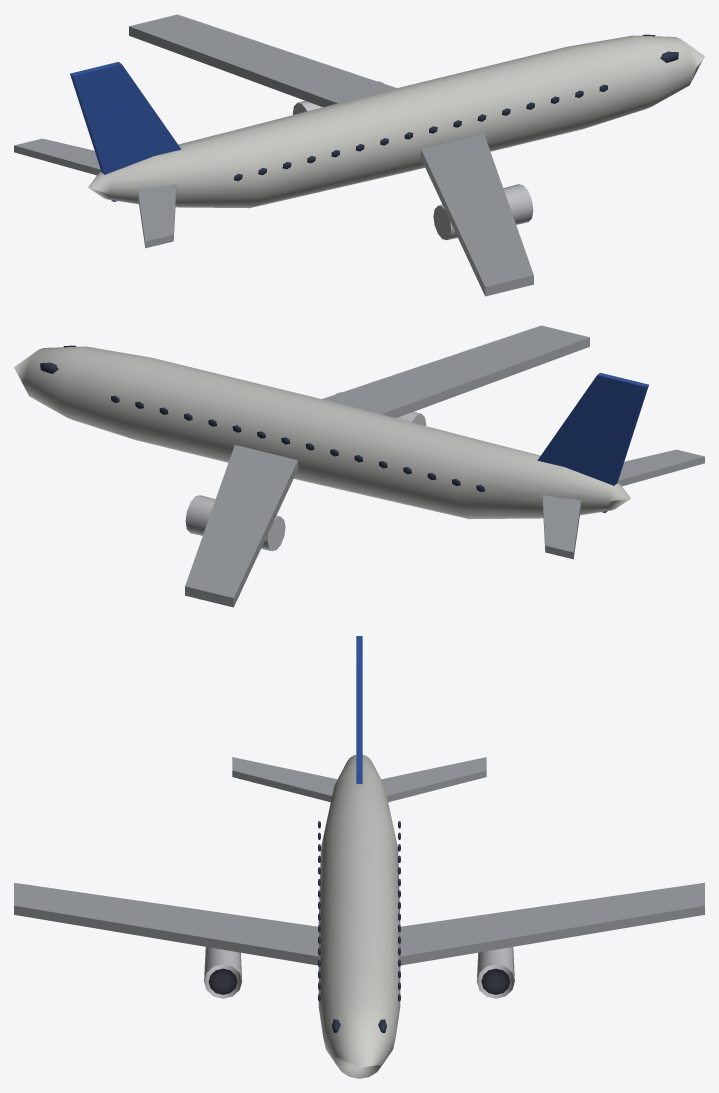
The model's file is sky_jet.glb.
3 views of the same model, one above another, from view 1: azimuth 30°, elevation 25°; view 2: azimuth 150°, elevation 25°; view 3: azimuth 270°, elevation 25° (orthographic). The views are drawn at different scales.
Parts seen in each view (by area): view 1: sky_jet_main, sky_jet_gloss; view 2: sky_jet_main, sky_jet_gloss; view 3: sky_jet_main, sky_jet_gloss.
Boxes of the visible parts, x1,y1,x2,y2 form: sky_jet_main: (14,14,704,296); sky_jet_gloss: (234,34,678,181); sky_jet_main: (14,325,704,607); sky_jet_gloss: (40,345,484,492); sky_jet_main: (14,636,704,1078); sky_jet_gloss: (208,821,510,1032).
Size of the model in its own units: 1.56 by 0.442 by 1.52.
